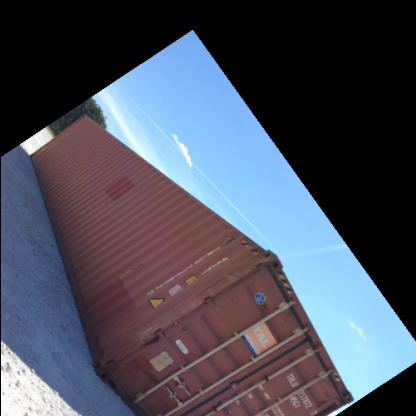Damage: (108, 306, 186, 364), (179, 276, 238, 313)
